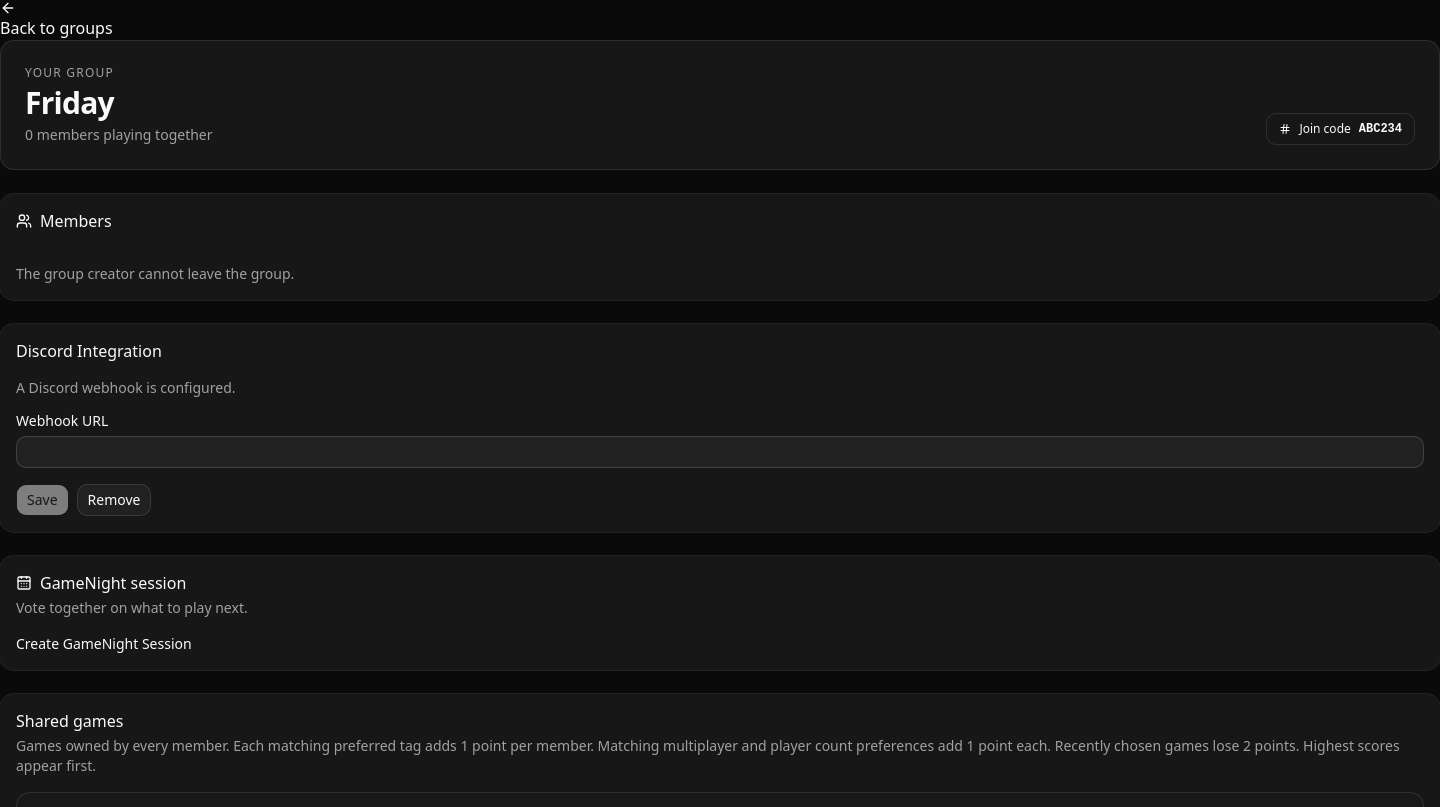
creator configures and removes the webhook without displaying the saved secret
Check: the text "A Discord webhook is configured." is shown, box [16,378,236,397]
Type "https://discord.com/api/webhooks/123456789012345678/secret_token_abcdefghijklmnopqrstuvwxyz" into the password field labelled "Webhook URL" at (720, 452), box [16,436,1424,468]
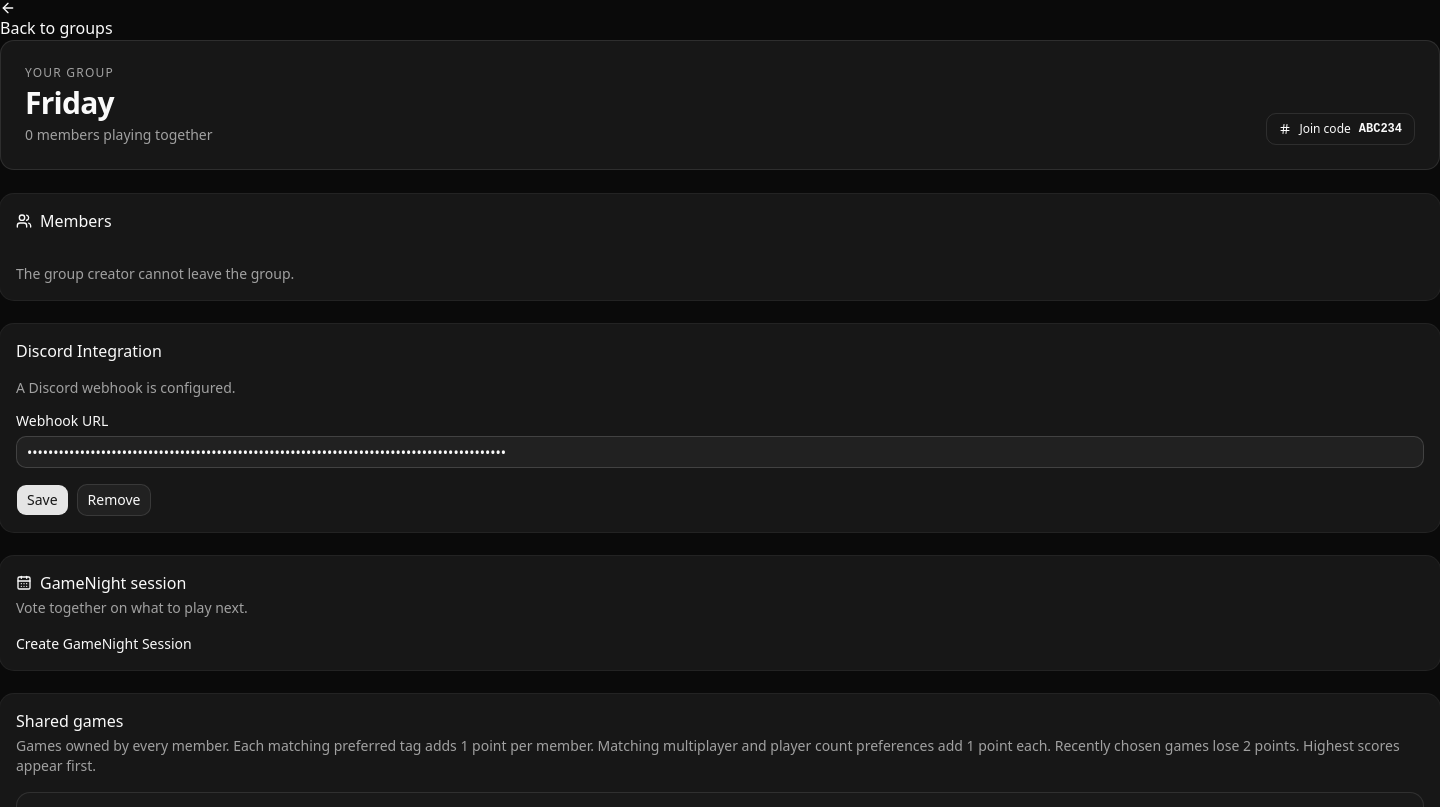
Click the button "Save" at (42, 500), box [16,484,69,516]
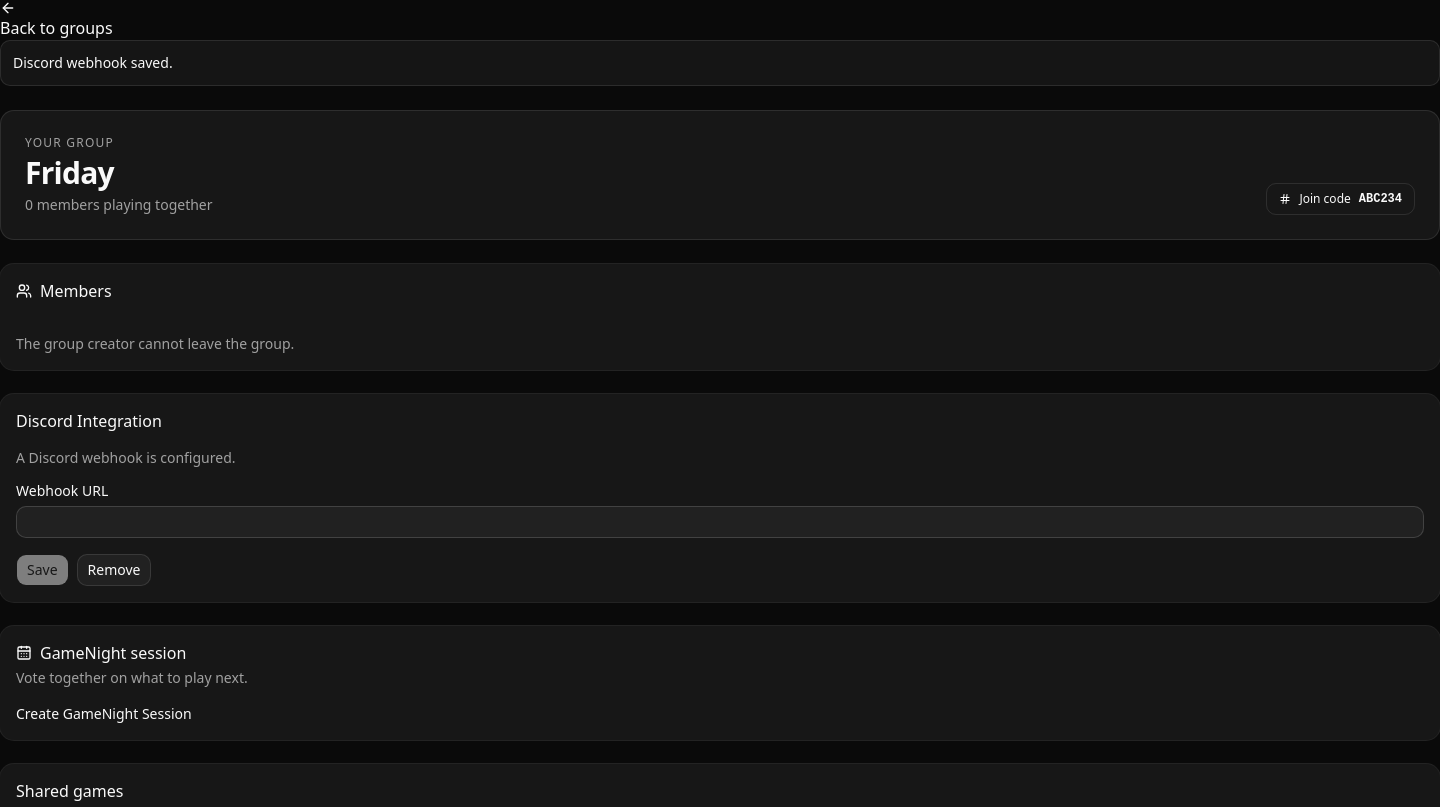
Check: the text "Discord webhook saved." is shown, box [0,40,1439,86]
Check: the password field labelled "Webhook URL" is empty, box [16,506,1424,538]
Click the button "Remove" at (114, 570), box [77,554,152,586]
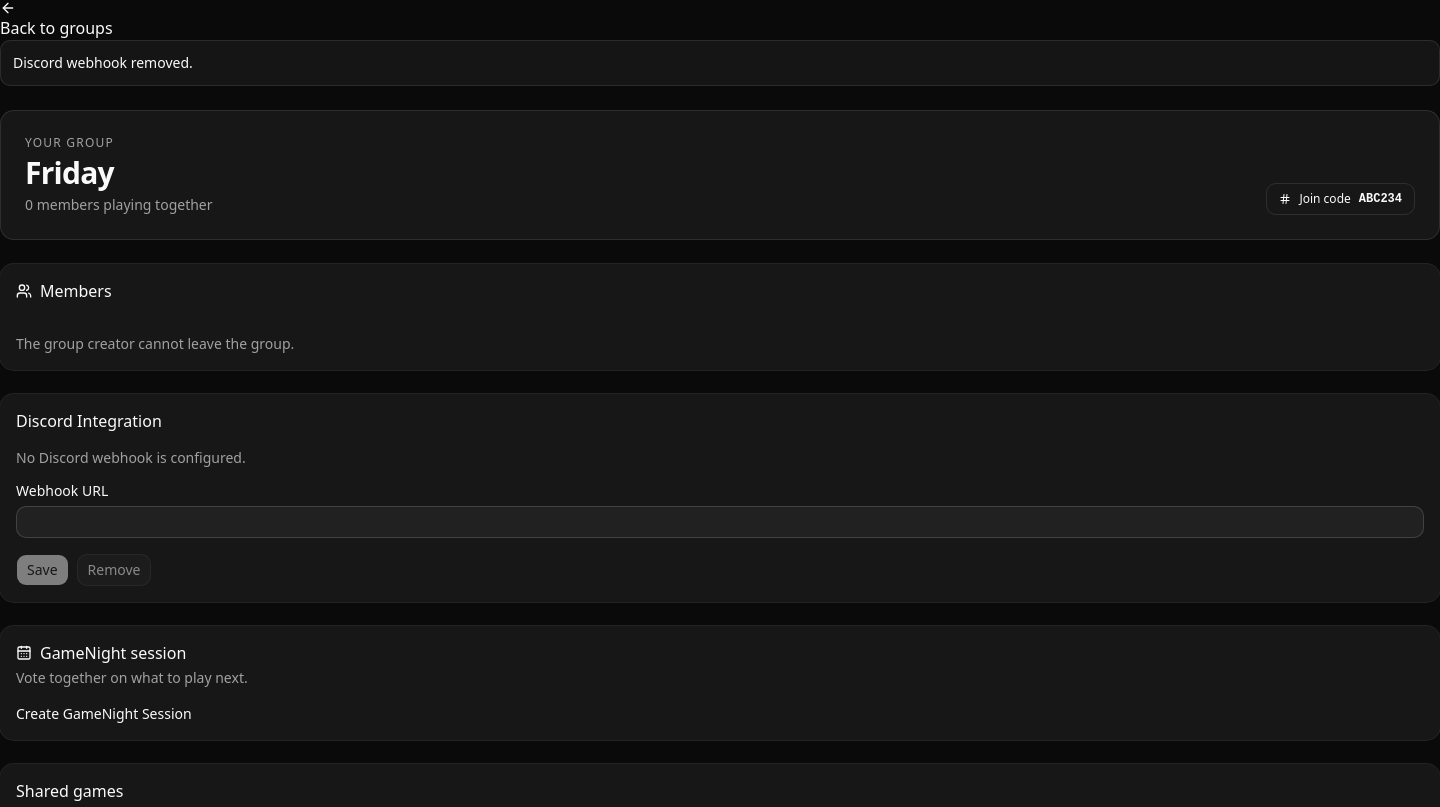
Check: the text "No Discord webhook is configured." is shown, box [16,448,246,467]
